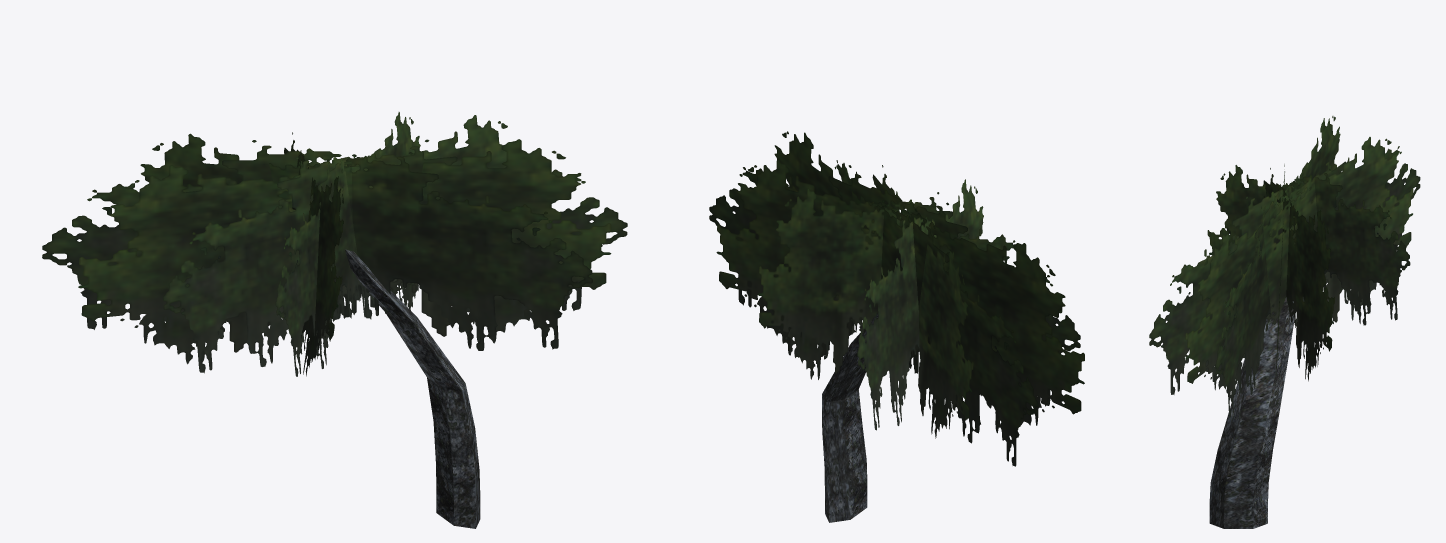
Rendered from JungleTree.obj.
3 views of the same model, side by side, from view 1: azimuth 30°, elevation 25°; view 2: azimuth 150°, elevation 25°; view 3: azimuth 270°, elevation 25° (orthographic). The views are drawn at different scales.
Visible parts, largest first — view 1: Plane.003, Cylinder.001; view 2: Plane.003, Cylinder.001; view 3: Plane.003, Cylinder.001.
Boxes of the visible parts, x1=… form: Plane.003: x1=42, y1=112, x2=627, y2=376; Cylinder.001: x1=345, y1=249, x2=480, y2=528; Plane.003: x1=709, y1=131, x2=1084, y2=466; Cylinder.001: x1=822, y1=312, x2=878, y2=522; Plane.003: x1=1149, y1=116, x2=1420, y2=417; Cylinder.001: x1=1209, y1=297, x2=1295, y2=528.
Bounding box in the file's own units: 1.78 × 1.45 × 1.05.
Materials: 2 (2 with a texture image).
